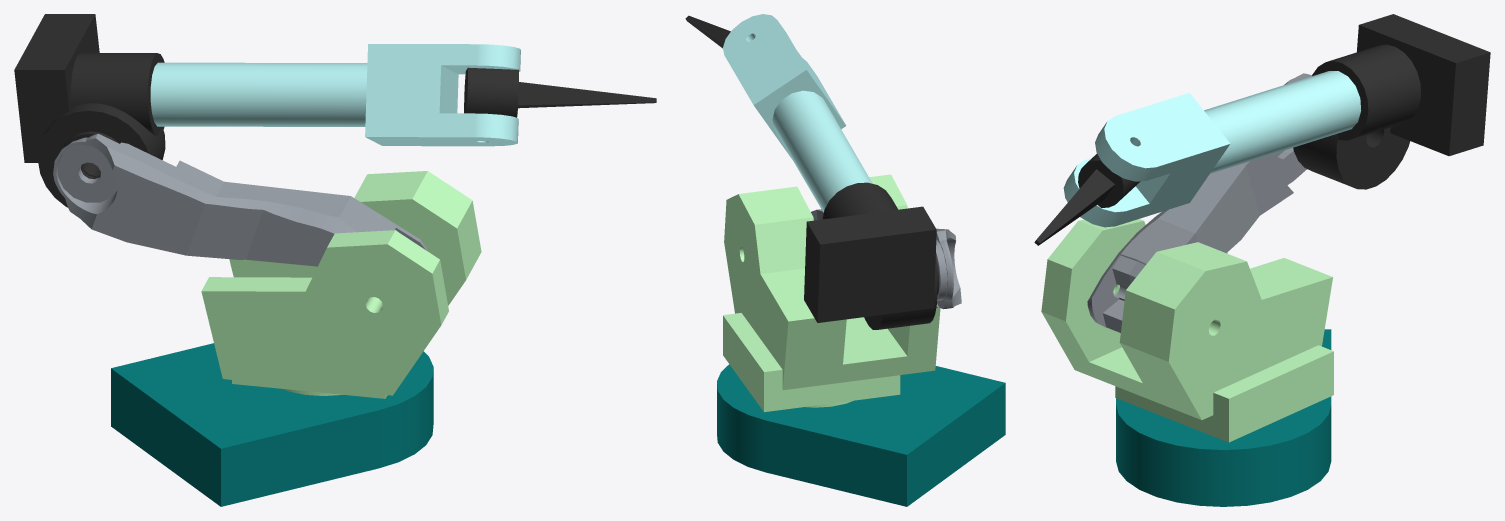
Rendered from robotArm.24.dae.
The picture shows the model from 3 angles, left to right: view 1: azimuth 30°, elevation 25°; view 2: azimuth 150°, elevation 25°; view 3: azimuth 270°, elevation 25°; orthographic projection. The views are drawn at different scales.
Parts seen in each view (by area): view 1: Actor3, Actor2, Actor1, Actor5, Actor4, Actor0; view 2: Actor3, Actor2, Actor4, Actor1, Actor5, Actor0; view 3: Actor3, Actor1, Actor4, Actor2, Actor5, Actor0.
Boxes of the visible parts, x1,y1,x2,y2 form: Actor3: (201, 171, 481, 398); Actor2: (111, 343, 433, 506); Actor1: (150, 44, 520, 146); Actor5: (53, 133, 428, 266); Actor4: (14, 14, 165, 207); Actor0: (464, 67, 656, 117); Actor3: (723, 174, 940, 412); Actor2: (717, 364, 1005, 506); Actor4: (804, 182, 939, 329); Actor1: (723, 14, 872, 212); Actor5: (811, 209, 961, 309); Actor0: (685, 15, 730, 48); Actor3: (1041, 219, 1333, 442); Actor1: (1063, 71, 1361, 227); Actor4: (1293, 14, 1490, 189); Actor2: (1116, 329, 1331, 506); Actor5: (1087, 73, 1311, 332); Actor0: (1034, 154, 1140, 245).
Size of the model in its own units: 2.16 by 1.79 by 1.89.
